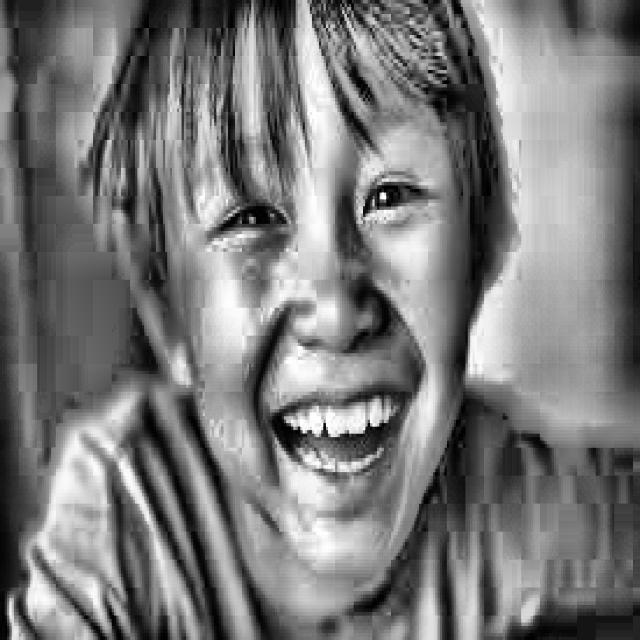happy: (86, 6, 530, 573)
